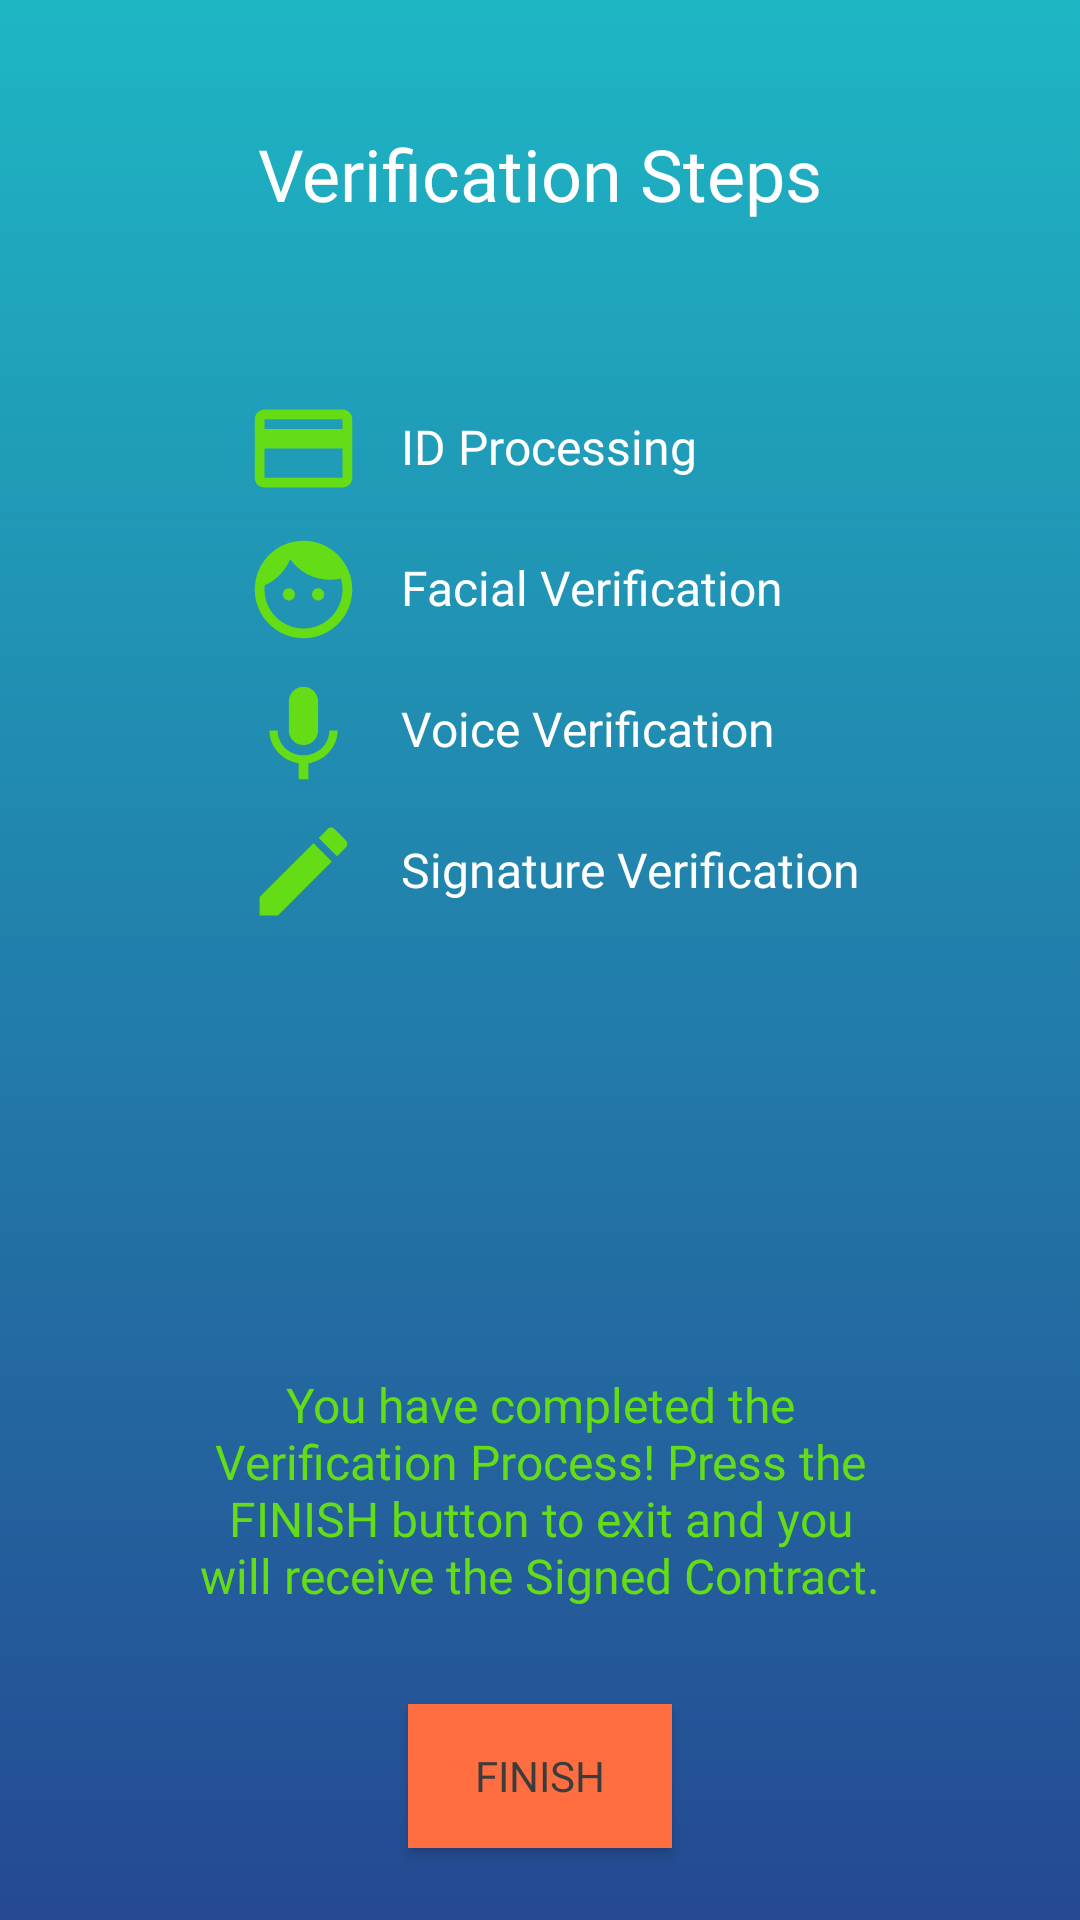

Named icons in this screenshot (1080×1920) and their bounding boxes, (x1, y1, x2, y2):
face: (254, 540, 353, 639)
idcard: (254, 409, 353, 488)
